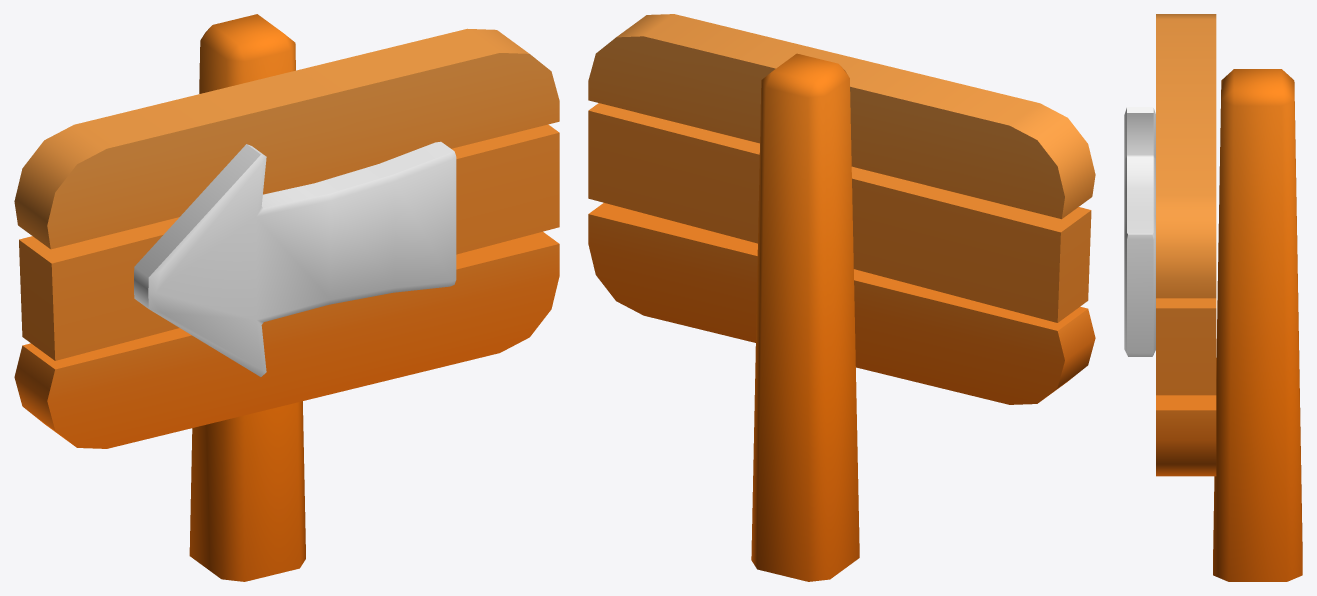
Rendered from Prop_Wooden_Sign_02.fbx.
3 views of the same model, side by side, from view 1: azimuth 30°, elevation 25°; view 2: azimuth 150°, elevation 25°; view 3: azimuth 270°, elevation 25° (orthographic). The views are drawn at different scales.
Parts seen in each view (by area): view 1: Prop_Wooden_Sign_02; view 2: Prop_Wooden_Sign_02; view 3: Prop_Wooden_Sign_02.
Part boxes in pixels (x1,y1,x2,y2): Prop_Wooden_Sign_02: (14,14,559,581); Prop_Wooden_Sign_02: (588,14,1095,581); Prop_Wooden_Sign_02: (1124,14,1302,581).
Size of the model in its own units: 90.11 by 88.8 by 29.65.
